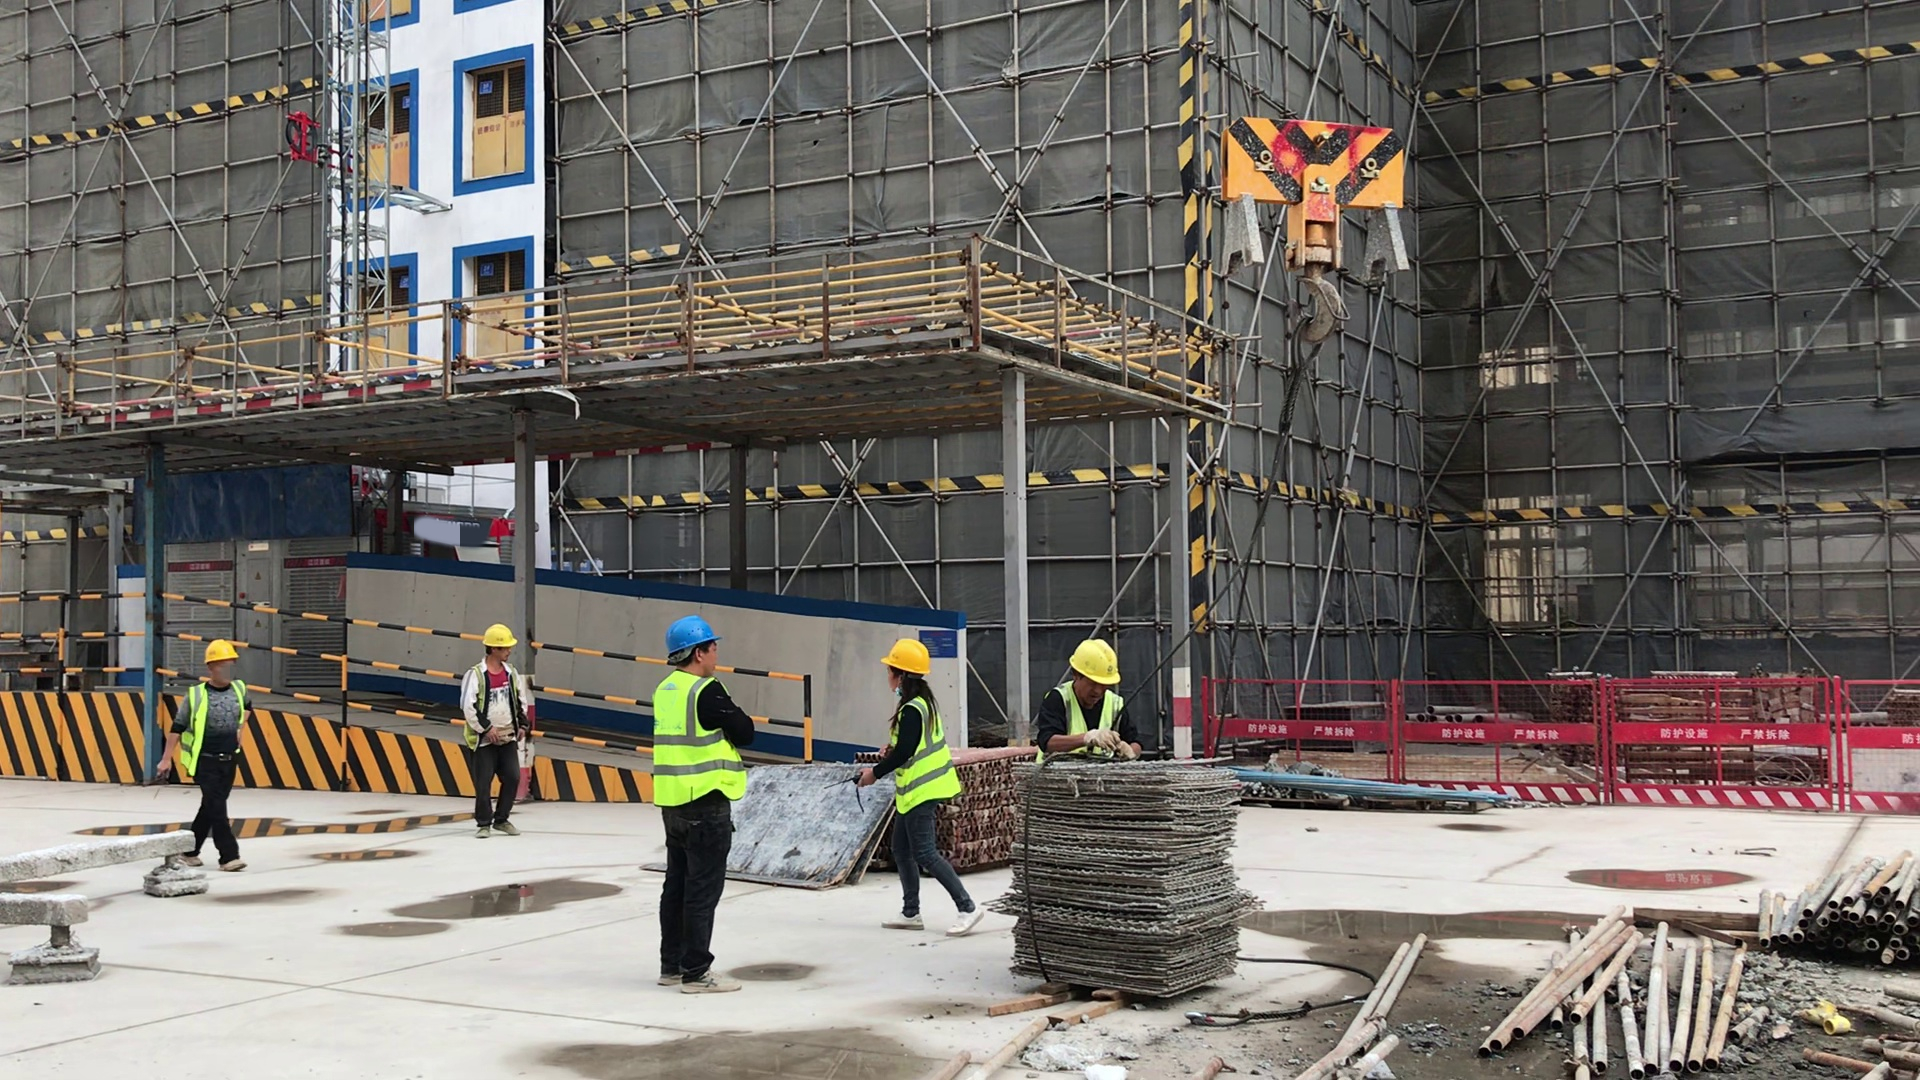board: (639, 756, 901, 888)
fence: (2, 582, 842, 797), (1190, 654, 1920, 840)
helmet: (658, 612, 736, 666), (1062, 635, 1128, 689), (875, 637, 940, 689), (202, 631, 259, 662), (478, 622, 536, 650)
hook: (1203, 84, 1431, 381)
person: (640, 612, 774, 997), (851, 633, 997, 956), (148, 610, 290, 865), (444, 593, 550, 842), (1039, 623, 1155, 765)
scaffold: (952, 737, 1038, 876)
vest: (628, 668, 771, 818), (882, 689, 967, 814), (451, 659, 548, 755), (1047, 672, 1141, 758), (179, 678, 256, 777)
